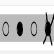correct: (16, 20, 24, 38)
no answer: (30, 19, 38, 38), (2, 20, 10, 38)
not correct: (43, 11, 54, 48)
